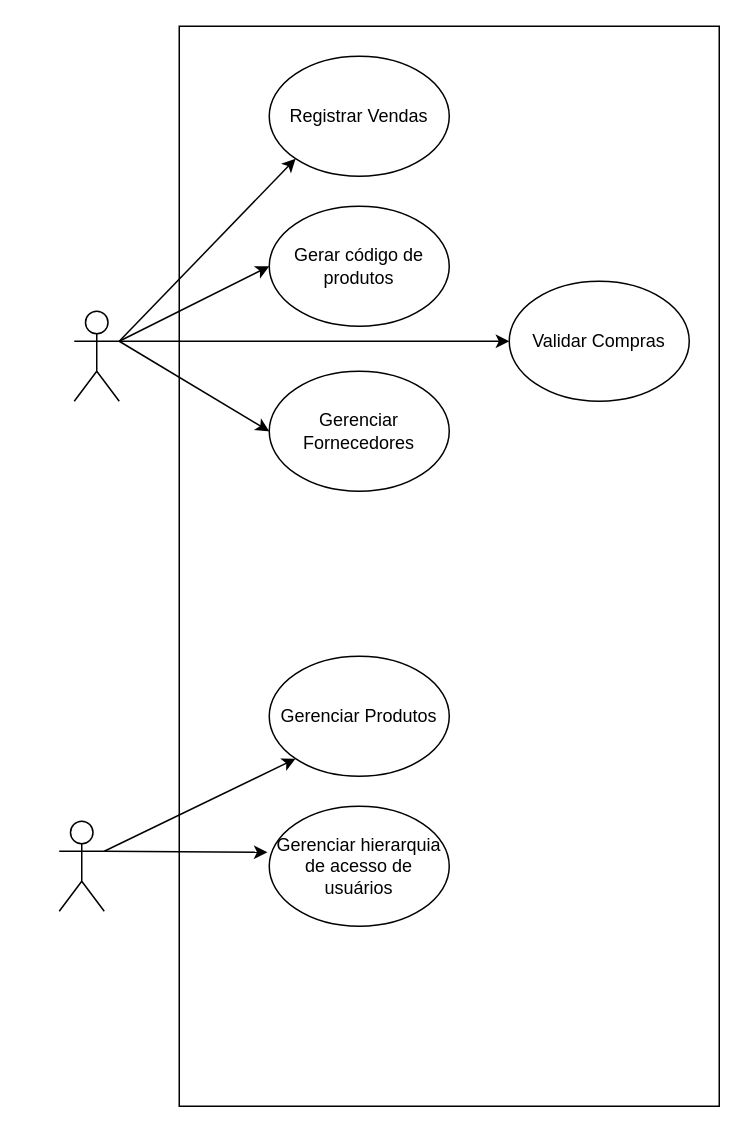
This 746x1133 diagram has some shape labels left out. The centre of each missing label's shape, as x and y in pixels:
Administrador: point 81,865
Usuário: point 96,355
